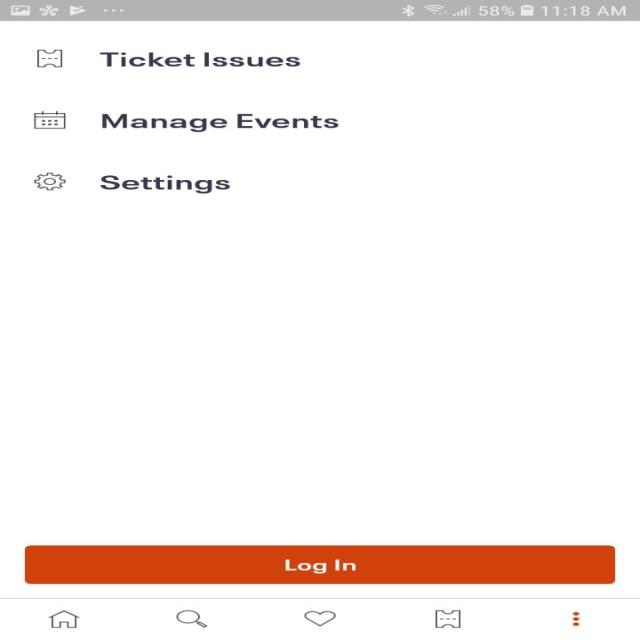Icon: (33, 172, 66, 191), (175, 609, 208, 628), (48, 609, 80, 628), (33, 111, 66, 129), (303, 610, 336, 627), (434, 609, 461, 628), (37, 49, 63, 67), (570, 611, 580, 626)
Text: (102, 113, 339, 132), (100, 52, 300, 67), (100, 174, 230, 193)
TextButton: (24, 545, 614, 584)
